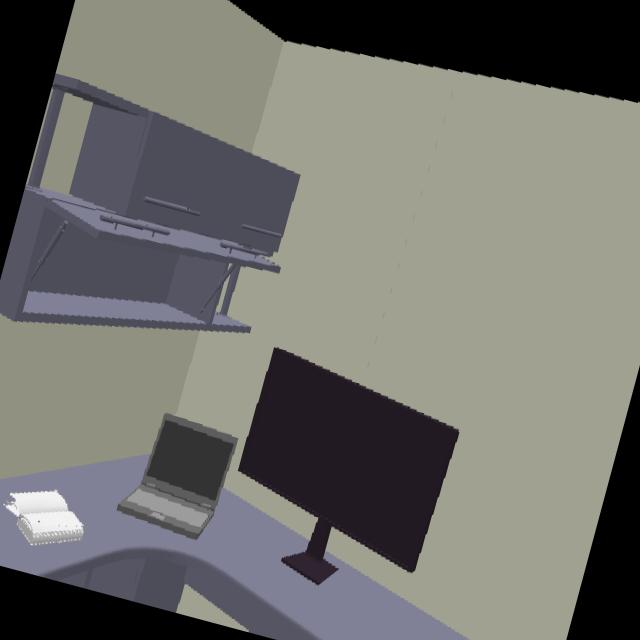book: (5, 490, 81, 544)
cabinet: (0, 73, 300, 333)
laptop: (117, 414, 237, 542)
monitor: (236, 347, 458, 587)
table: (0, 454, 469, 640)
